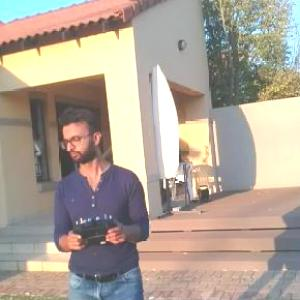follow: (49, 101, 153, 299)
